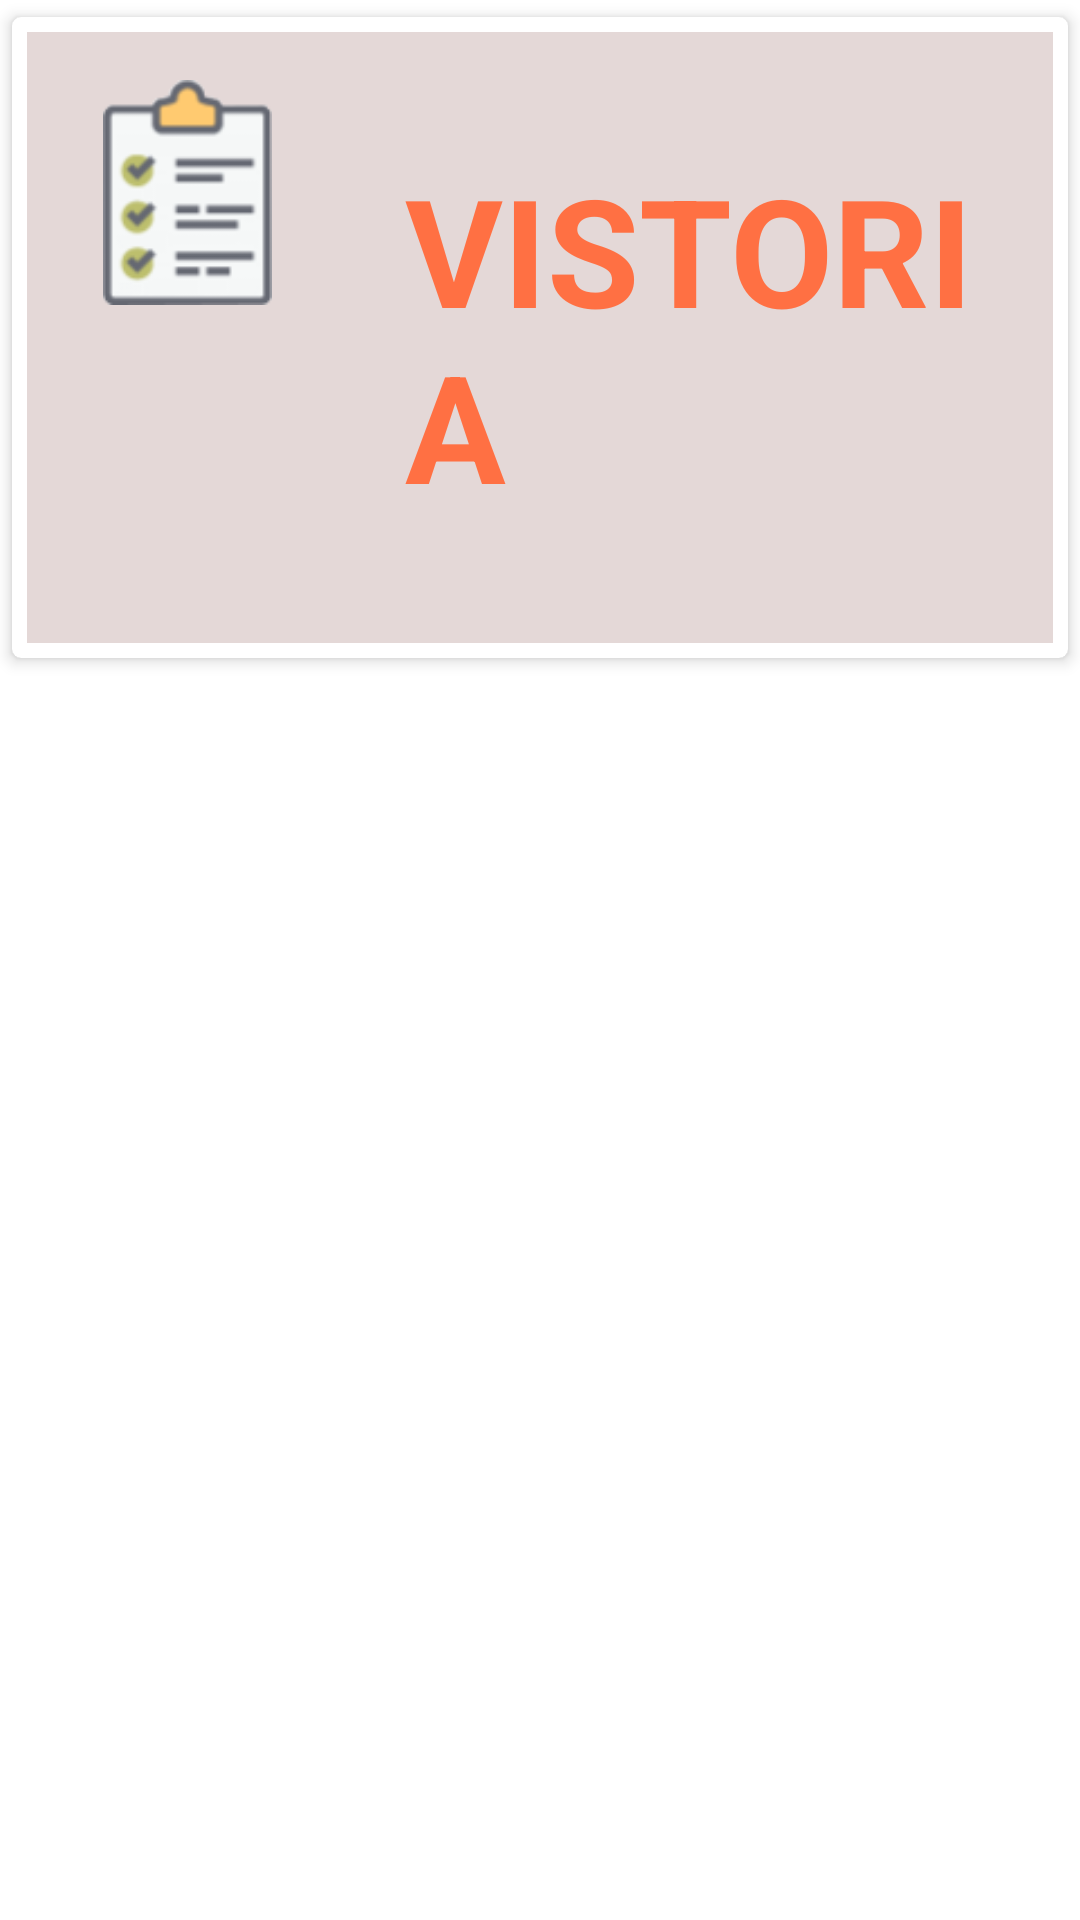

Screen size 1080×1920. Icon name, then its box in pixels as (x1, y1, x2, y2):
prancheta: (103, 80, 272, 305)
